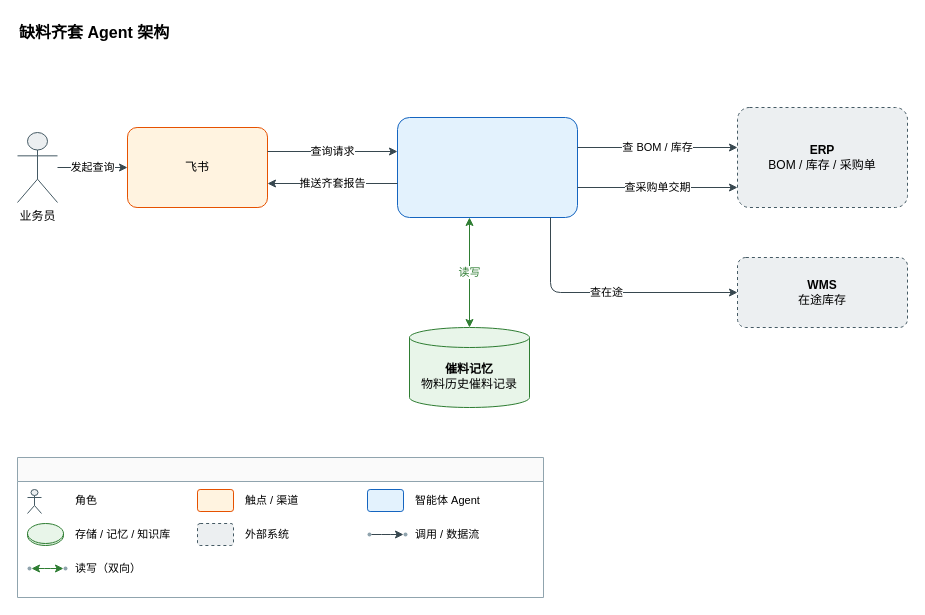
Image size: 925x615. Some labels were removed from this diagram. Each missing label, with the box of its shape:
图例: (16, 456, 544, 598)
齐套 Agent 齐套率计算: (396, 116, 578, 218)
